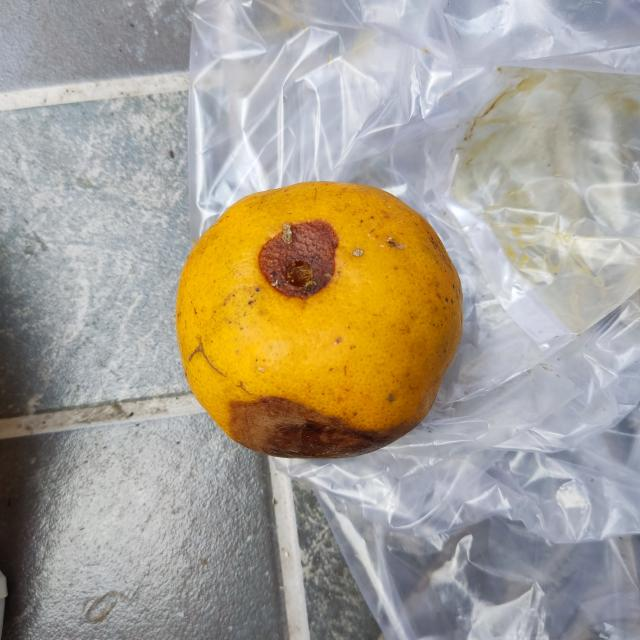orange: (168, 176, 466, 464)
